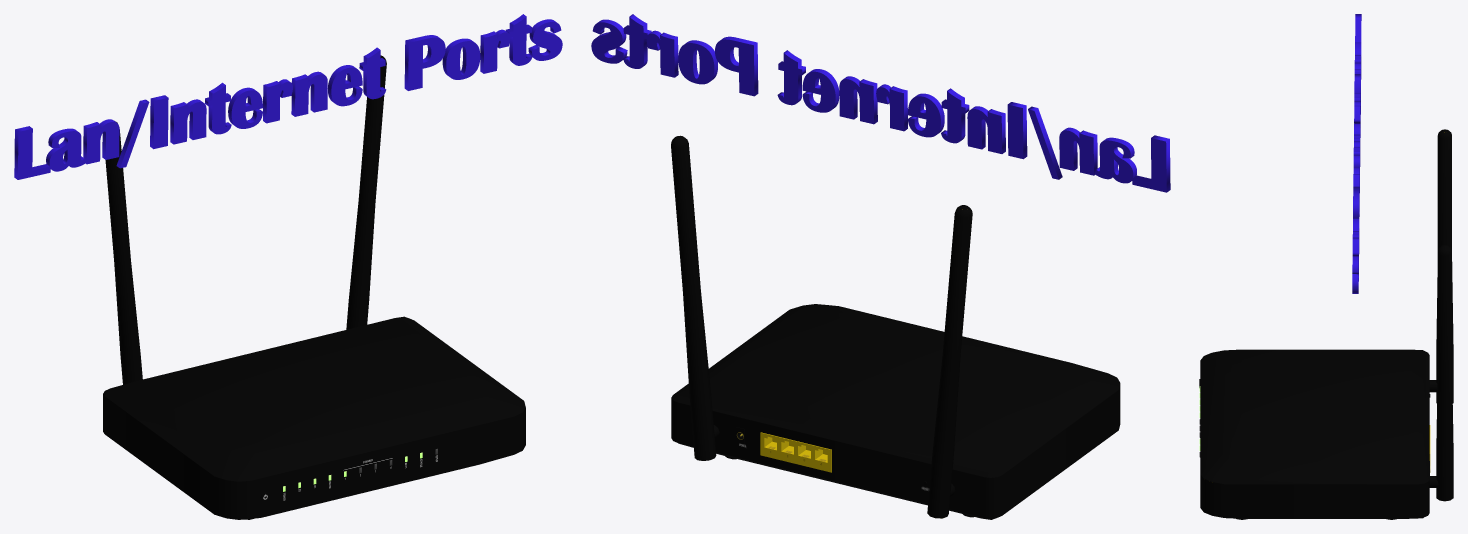
Rendered from samr.gltf.
3 views of the same model, side by side, from view 1: azimuth 30°, elevation 25°; view 2: azimuth 150°, elevation 25°; view 3: azimuth 270°, elevation 25° (orthographic). The views are drawn at different scales.
Visible parts, largest first — view 1: Router, Text; view 2: Router, Text; view 3: Router, Text.
Boxes of the visible parts, left/top/right/bottom form: Router: left=103, top=55, right=525, bottom=519; Text: left=14, top=14, right=562, bottom=179; Router: left=671, top=135, right=1120, bottom=519; Text: left=591, top=14, right=1170, bottom=192; Router: left=1199, top=129, right=1453, bottom=519; Text: left=1352, top=14, right=1361, bottom=293.
Bounding box in the file's own units: 1.42 × 0.9446 × 0.6512.
Materials: 2 (1 with a texture image).
